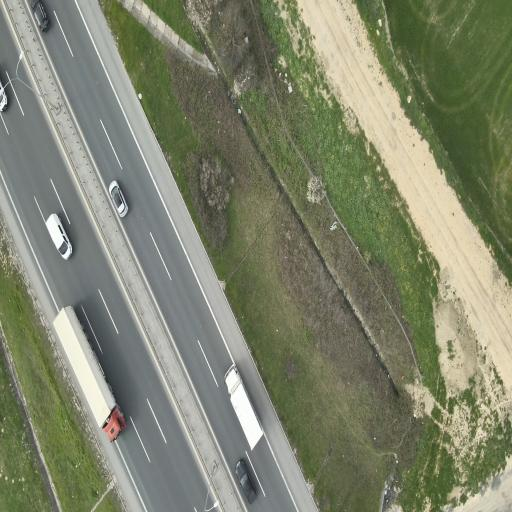car: (54, 307, 126, 441), (225, 365, 262, 449), (46, 214, 71, 259), (236, 461, 256, 503), (109, 181, 128, 217), (32, 0, 49, 31), (0, 82, 7, 111)
